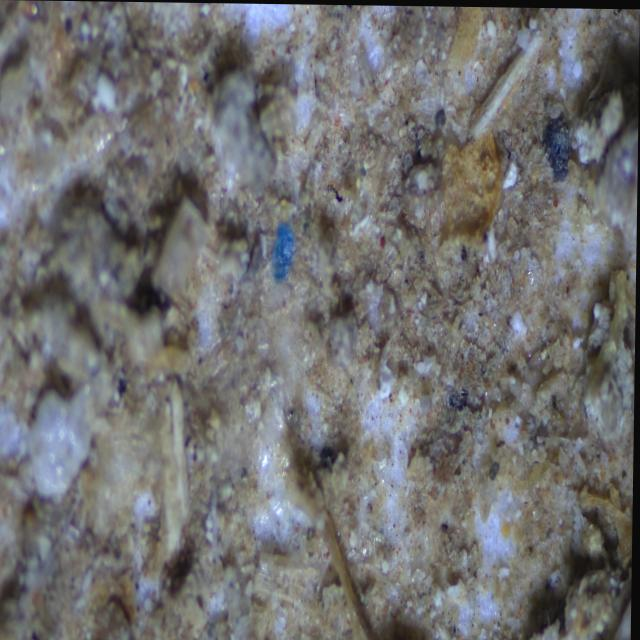microplastic: (263, 215, 303, 286)
